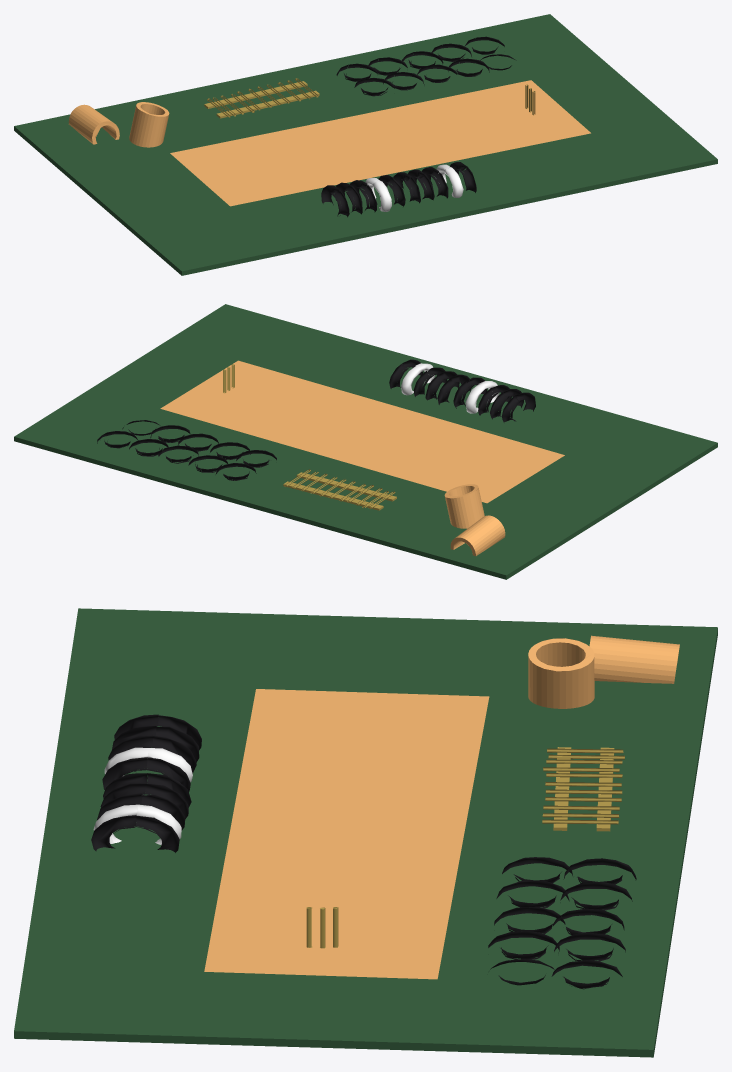
Rendered from ground.glb.
The picture shows the model from 3 angles, top to bottom: view 1: azimuth 30°, elevation 25°; view 2: azimuth 150°, elevation 25°; view 3: azimuth 270°, elevation 25°; orthographic projection. The views are drawn at different scales.
Parts seen in each view (by area): view 1: ground plane; view 2: ground plane; view 3: ground plane.
Part boxes in pixels (<box>): ground plane: <box>14,14,717,275</box>; ground plane: <box>14,304,717,579</box>; ground plane: <box>14,608,717,1057</box>.
Bounding box in the file's own units: 249 × 19.51 × 168.
Materials: 1 (1 with a texture image).
